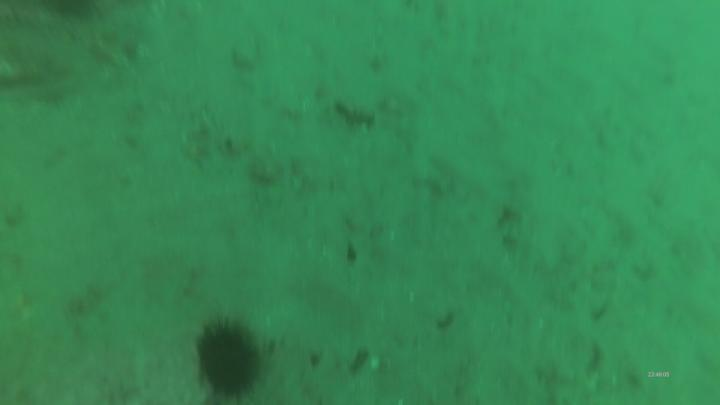echinus: (191, 318, 263, 400)
